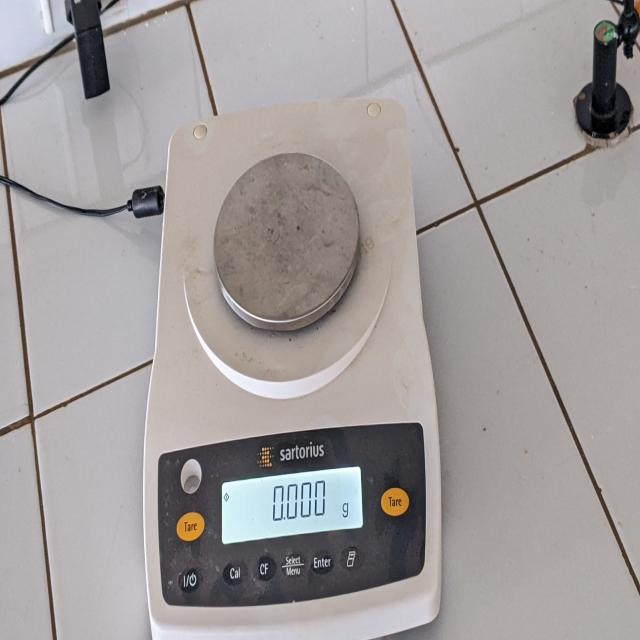Electronic Balance: (139, 76, 447, 640)
